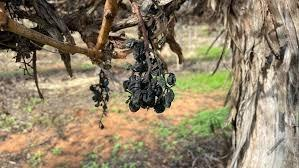Grape Overripe: (123, 40, 174, 112)
